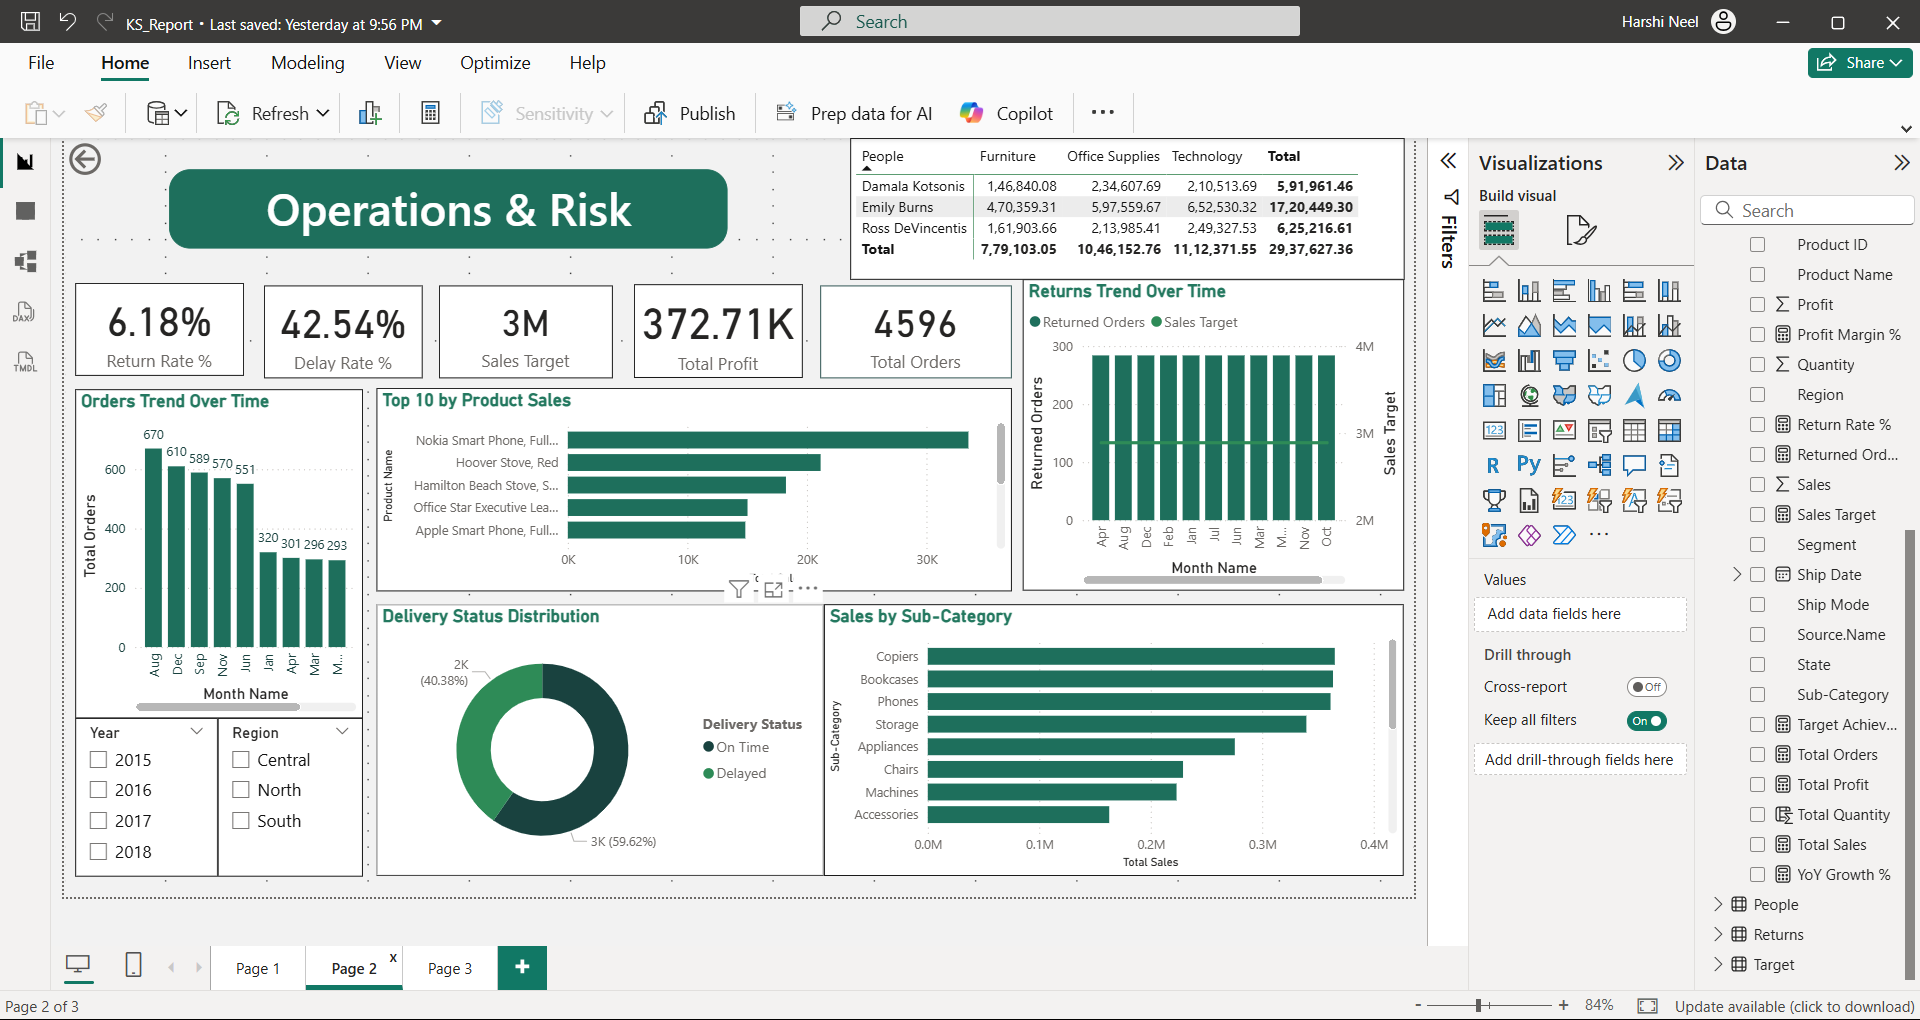

The dashboard page shown, as its layout file describes it:
{"tool":"powerbi","page":{"name":"Page 2","canvas":[1280,720],"ordinal":1},"visuals":[{"type":"card","fields":{"Values":["Orders (2).Return Rate %"]},"box":[10.7,137.5,160,87.7],"z":0},{"type":"card","fields":{"Values":["Orders (2).Sales Target"]},"box":[355.6,139.9,164.7,87.7],"z":1000},{"type":"card","fields":{"Values":["Orders (2).Total Profit"]},"box":[540.4,138.7,160,88.9],"z":2000},{"type":"card","fields":{"Values":["Orders (2).Delay Rate %"]},"box":[189.6,139.9,150.5,87.7],"z":3000},{"type":"barChart","title":"Top 10 by Product Sales","fields":{"Category":["Orders (2).Product Name"],"Y":["Orders (2).Total Sales"]},"box":[296.2,237.5,602.5,192.5],"z":4000},{"type":"lineStackedColumnComboChart","title":"Returns Trend Over Time","fields":{"Category":["Date.Month Name"],"Y":["Orders (2).Returned Orders"],"Y2":["Orders (2).Sales Target"]},"box":[909.5,134.2,361.8,295.4],"z":5000},{"type":"columnChart","title":"Orders Trend Over Time","fields":{"Category":["Date.Month Name"],"Y":["Orders (2).Total Orders"]},"box":[11.1,237.9,272.7,311.7],"z":6000},{"type":"donutChart","title":"Delivery Status Distribution","fields":{"Category":["Orders (2).Delivery Status"],"Y":["Orders (2).Total Orders"]},"box":[296.3,442.4,424.3,257.4],"z":7000},{"type":"barChart","title":"Sales by Sub-Category","fields":{"Category":["Orders (2).Sub-Category"],"Y":["Orders (2).Total Sales"]},"box":[720.7,442.4,549.6,257.4],"z":8000},{"type":"slicer","fields":{"Values":["Date.Year"]},"box":[11.1,549.6,135,150.3],"z":9000},{"type":"slicer","fields":{"Values":["Orders (2).Region"]},"box":[146.1,549.6,137.7,150.3],"z":10000},{"type":"actionButton","box":[0,0,100,40],"z":11000},{"type":"pivotTable","fields":{"Columns":["Orders (2).Category"],"Rows":["People.People"],"Values":["Orders (2).Total Sales"]},"box":[745.8,0,525.5,134.2],"z":12000},{"type":"textbox","title":"Operations & Risk","box":[99.7,29.5,529.2,75.1],"z":15000},{"type":"card","fields":{"Values":["Orders (2).Total Orders"]},"box":[717,139.9,181.3,87.7],"z":15001}]}

Visuals, with their boxes on the page's 1280x720 design canvas (x1, y1, x2, y2). These are canvas units, not pixel positions in the 1920x1020 screenshot, which may show the page scaled, cropped or inside an application window:
card - Orders (2).Return Rate %: x1=11 y1=138 x2=171 y2=225
card - Orders (2).Sales Target: x1=356 y1=140 x2=520 y2=228
card - Orders (2).Total Profit: x1=540 y1=139 x2=700 y2=228
card - Orders (2).Delay Rate %: x1=190 y1=140 x2=340 y2=228
"Top 10 by Product Sales" barChart: x1=296 y1=238 x2=899 y2=430
"Returns Trend Over Time" lineStackedColumnComboChart: x1=910 y1=134 x2=1271 y2=430
"Orders Trend Over Time" columnChart: x1=11 y1=238 x2=284 y2=550
"Delivery Status Distribution" donutChart: x1=296 y1=442 x2=721 y2=700
"Sales by Sub-Category" barChart: x1=721 y1=442 x2=1270 y2=700
slicer - Date.Year: x1=11 y1=550 x2=146 y2=700
slicer - Orders (2).Region: x1=146 y1=550 x2=284 y2=700
actionButton: x1=0 y1=0 x2=100 y2=40
pivotTable - Orders (2).Category x People.People: x1=746 y1=0 x2=1271 y2=134
"Operations & Risk" textbox: x1=100 y1=30 x2=629 y2=105
card - Orders (2).Total Orders: x1=717 y1=140 x2=898 y2=228
